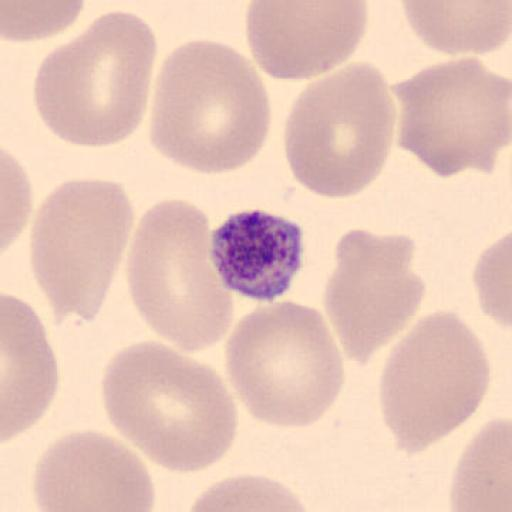Platelet: (206, 207, 309, 304)
RBC: (100, 338, 240, 474), (35, 9, 158, 149), (149, 38, 272, 176), (125, 197, 232, 352), (378, 310, 491, 454), (223, 298, 346, 430), (282, 65, 398, 200), (28, 177, 133, 322), (322, 226, 426, 368), (394, 55, 512, 179), (244, 0, 370, 82), (32, 429, 156, 512), (1, 291, 60, 444), (400, 0, 511, 56), (449, 416, 512, 512), (183, 472, 315, 512), (472, 228, 512, 332), (2, 0, 86, 42), (1, 146, 32, 252)
